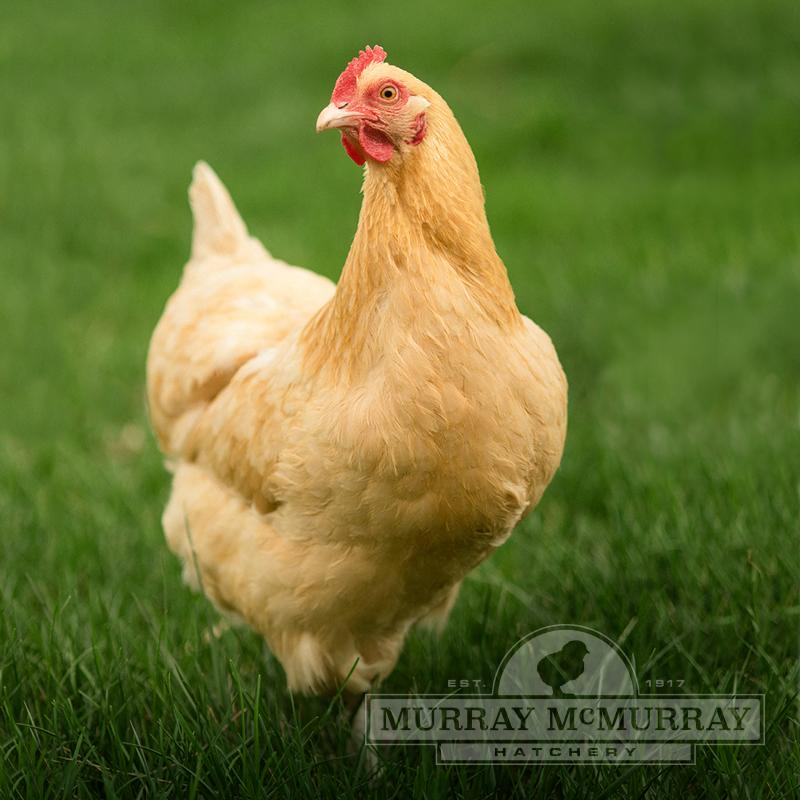buff: (267, 47, 575, 535)
